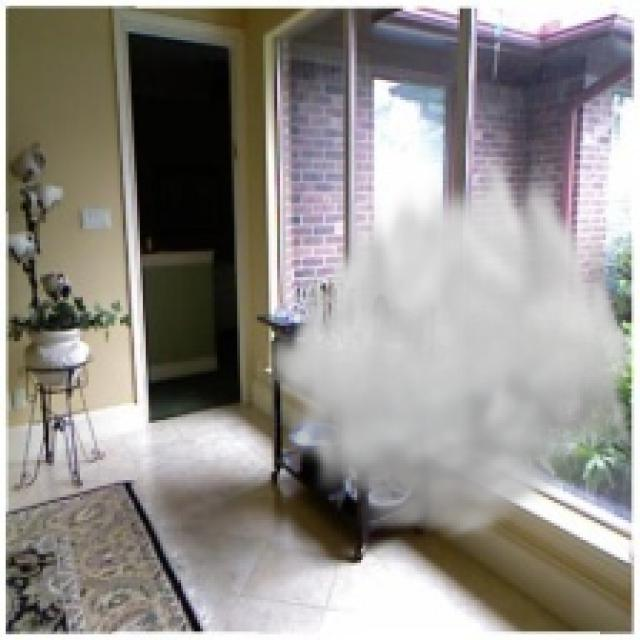smoke: (263, 140, 637, 546)
